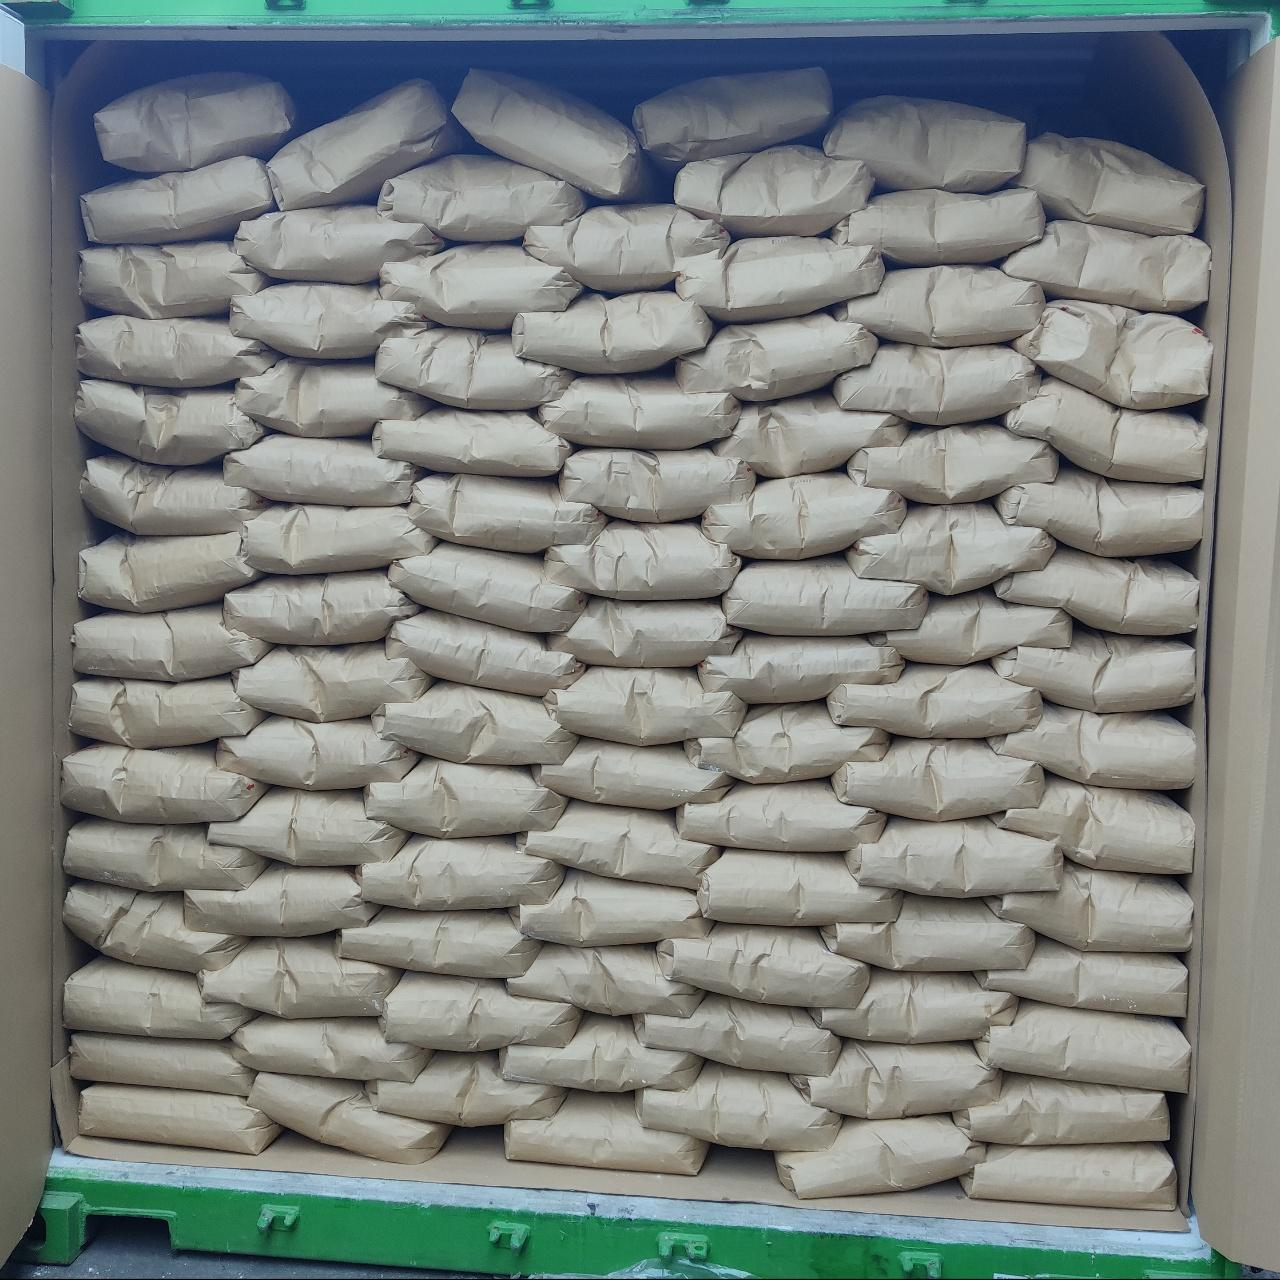sack: (452, 70, 658, 198), (266, 80, 464, 206), (96, 72, 302, 172), (1016, 300, 1210, 406), (1002, 378, 1204, 478), (976, 1000, 1190, 1090), (992, 774, 1192, 870), (634, 70, 830, 166), (996, 464, 1204, 554), (1002, 220, 1206, 310), (1014, 134, 1204, 230), (824, 98, 1022, 190), (990, 860, 1190, 950), (524, 204, 726, 292), (990, 704, 1200, 788), (850, 504, 1054, 590), (996, 546, 1200, 632), (380, 154, 586, 238), (658, 924, 868, 1006), (638, 1064, 838, 1150), (992, 626, 1196, 710), (676, 146, 870, 234), (704, 472, 902, 558), (678, 312, 876, 398), (390, 542, 582, 630), (252, 1074, 448, 1160), (834, 738, 1042, 818), (520, 802, 718, 886), (714, 390, 906, 476), (676, 238, 882, 318), (846, 818, 1062, 894), (374, 682, 574, 764), (382, 244, 582, 326), (848, 424, 1058, 502), (62, 880, 244, 970), (778, 1116, 982, 1196), (388, 610, 582, 694), (978, 936, 1186, 1014), (836, 268, 1042, 346), (686, 702, 886, 782), (82, 158, 272, 242), (794, 1040, 998, 1118), (514, 292, 712, 372), (836, 344, 1038, 422), (62, 744, 264, 822), (636, 994, 838, 1072), (508, 1092, 704, 1172), (366, 758, 566, 836), (200, 936, 398, 1014), (76, 380, 262, 462), (378, 326, 568, 406), (234, 206, 444, 278), (830, 664, 1040, 736), (832, 190, 1042, 262), (66, 958, 254, 1038), (822, 894, 1030, 966), (698, 850, 900, 924), (724, 556, 926, 630), (812, 968, 1014, 1042), (234, 642, 430, 718), (380, 972, 580, 1046), (410, 474, 604, 550), (234, 360, 428, 436), (358, 836, 562, 908), (502, 1016, 700, 1090), (548, 522, 740, 598), (868, 590, 1070, 662), (546, 668, 742, 742), (232, 284, 428, 358), (210, 788, 406, 862), (368, 1052, 564, 1126), (678, 780, 884, 850), (954, 1074, 1166, 1142), (82, 454, 262, 534), (74, 604, 268, 678), (540, 374, 738, 446), (218, 716, 416, 788), (512, 870, 708, 942), (64, 818, 262, 888), (78, 316, 276, 386), (82, 242, 264, 318), (700, 634, 902, 702), (186, 862, 376, 934), (560, 448, 754, 518), (82, 532, 256, 610), (226, 570, 414, 642), (374, 406, 572, 474), (508, 944, 700, 1014), (72, 676, 262, 746), (226, 434, 420, 502), (536, 738, 730, 806), (962, 1144, 1174, 1206), (338, 908, 536, 974), (550, 598, 740, 666), (242, 506, 434, 572), (80, 1086, 278, 1150), (232, 1014, 430, 1078), (72, 1034, 254, 1094)
